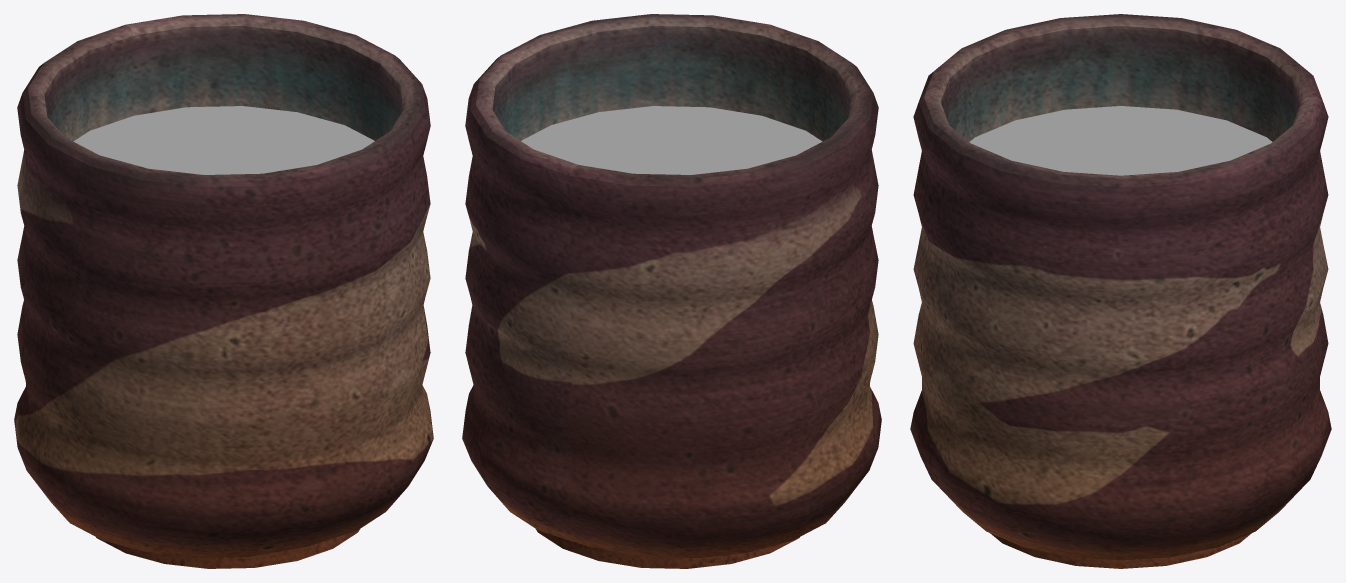
File: MD_yunomi02.fbx
3 renders of one model, left to right at view 1: azimuth 30°, elevation 25°; view 2: azimuth 150°, elevation 25°; view 3: azimuth 270°, elevation 25°, orthographic.
Visible parts, largest first — view 1: yunomi02, pDisc1; view 2: yunomi02, pDisc1; view 3: yunomi02, pDisc1.
Part boxes in pixels (x1,y1,x2,y2): yunomi02: [14, 14, 433, 568]; pDisc1: [73, 106, 374, 174]; yunomi02: [462, 14, 881, 568]; pDisc1: [521, 106, 822, 174]; yunomi02: [910, 14, 1331, 568]; pDisc1: [969, 106, 1272, 175].
Size of the model in its own units: 7.29 by 7.82 by 7.29.
Materials: 2 (1 with a texture image).
